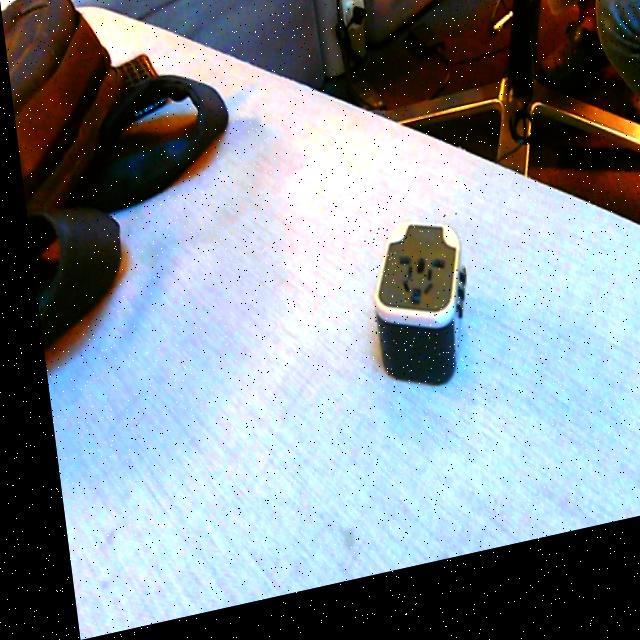adapter: (355, 227, 466, 411)
